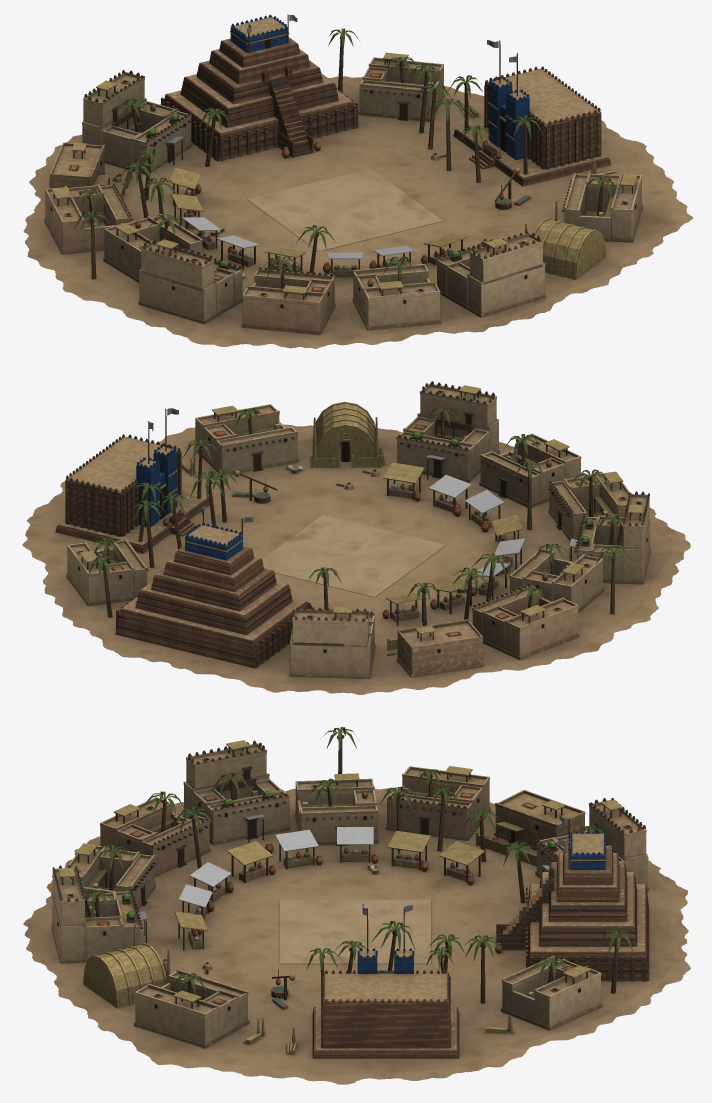
The model's file is classical-town-medium-a-mesopotamia.glb.
3 renders of one model, top to bottom at view 1: azimuth 30°, elevation 25°; view 2: azimuth 150°, elevation 25°; view 3: azimuth 270°, elevation 25°, orthographic. The views are drawn at different scales.
Parts seen in each view (by area): view 1: LOD0; view 2: LOD0; view 3: LOD0.
Boxes of the visible parts, x1,y1,x2,y2 form: LOD0: [23, 14, 693, 348]; LOD0: [22, 381, 690, 694]; LOD0: [23, 727, 690, 1084].
Size of what is drawn, in the model's own units: 5.92 by 1.08 by 5.6.
3 materials, 3 textured.
